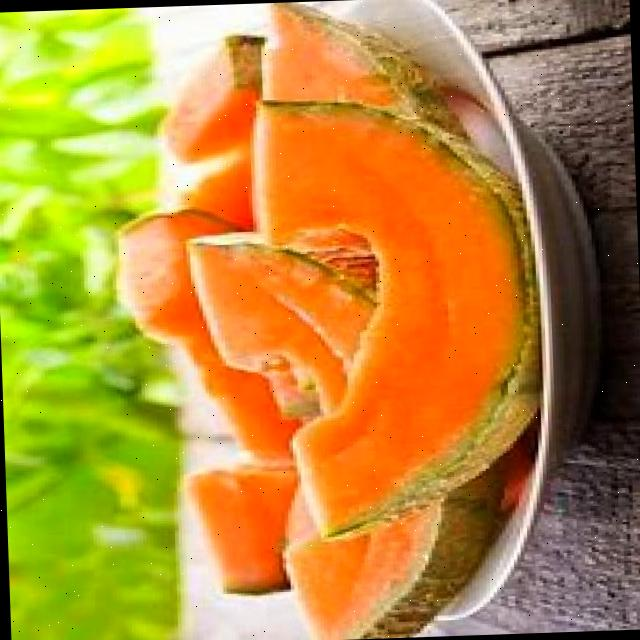Hami Melon: (138, 0, 549, 640)
